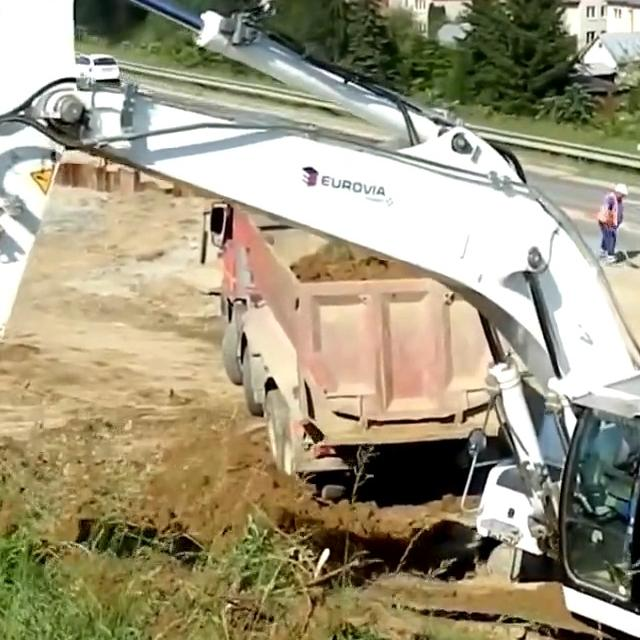Excavator: (0, 0, 640, 640)
Hardhat: (613, 183, 627, 194)
Person: (596, 183, 629, 265)
Safety Vest: (597, 192, 618, 227)
dump truck: (203, 196, 508, 497)
